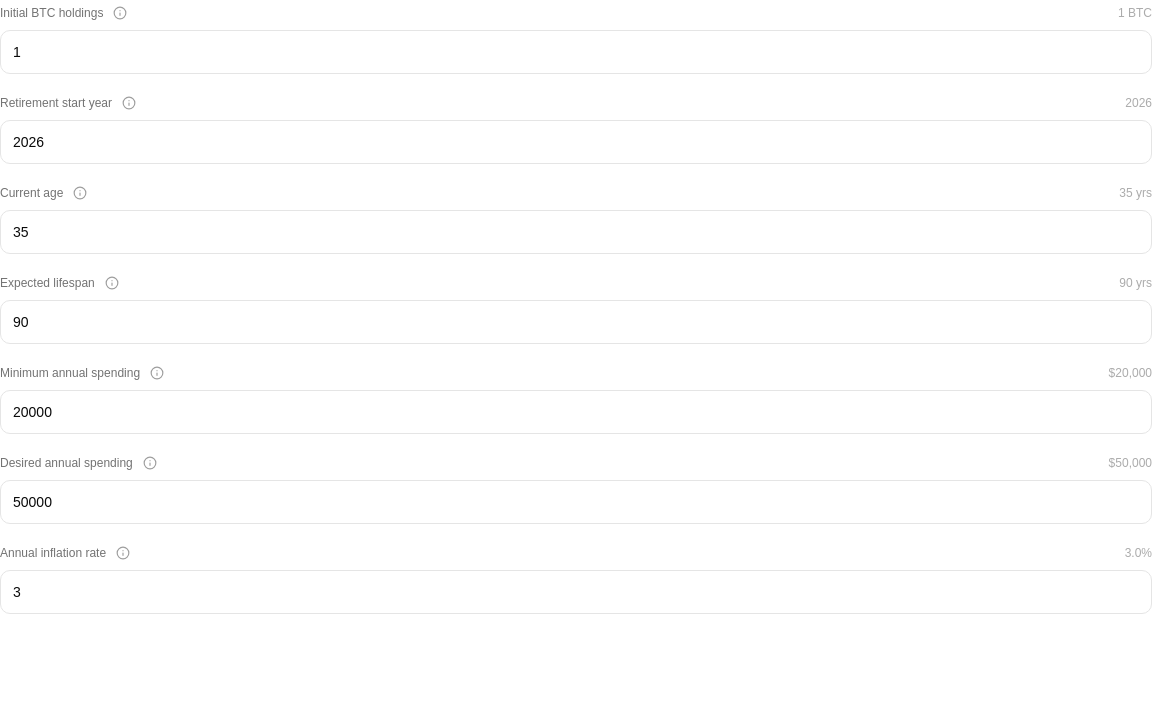
Test case: ParameterPanel › shows an info button with a non-empty description for each field
Expected: the button named "About Initial BTC holdings" is shown, [107, 0, 133, 26]
Click the button named "About Annual inflation rate".
click(123, 553)  # box [110, 540, 136, 566]
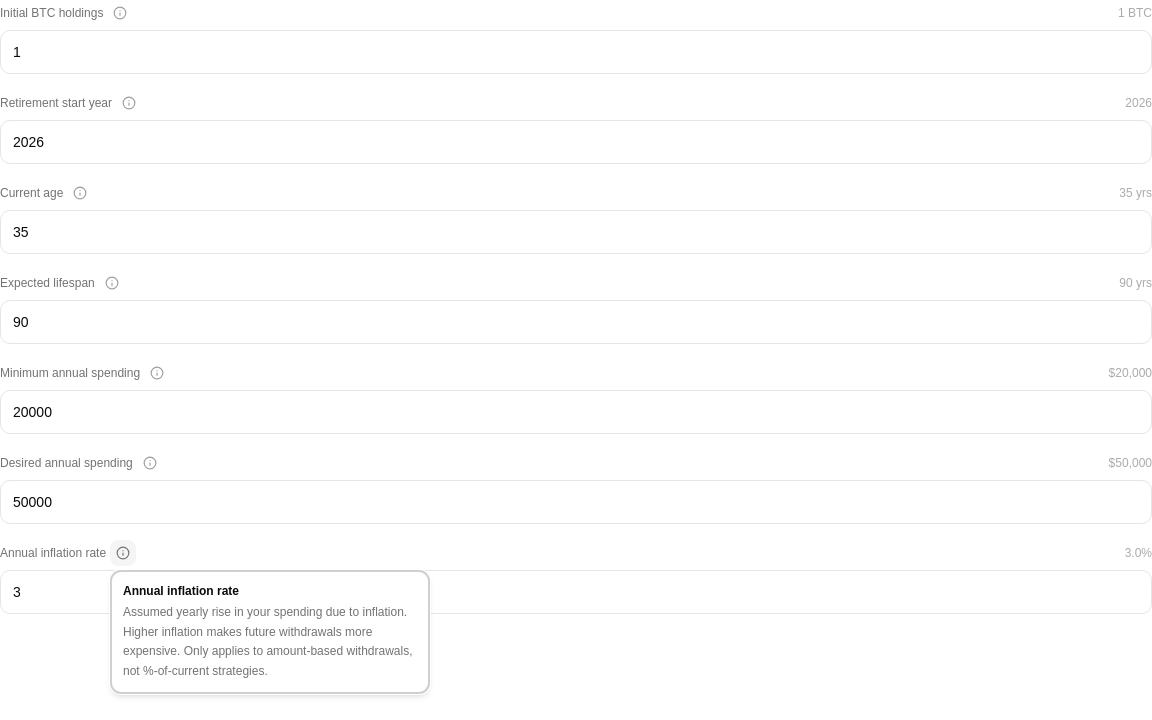
Expected: the text "Assumed yearly rise in your spending" is shown, [123, 605, 412, 678]
